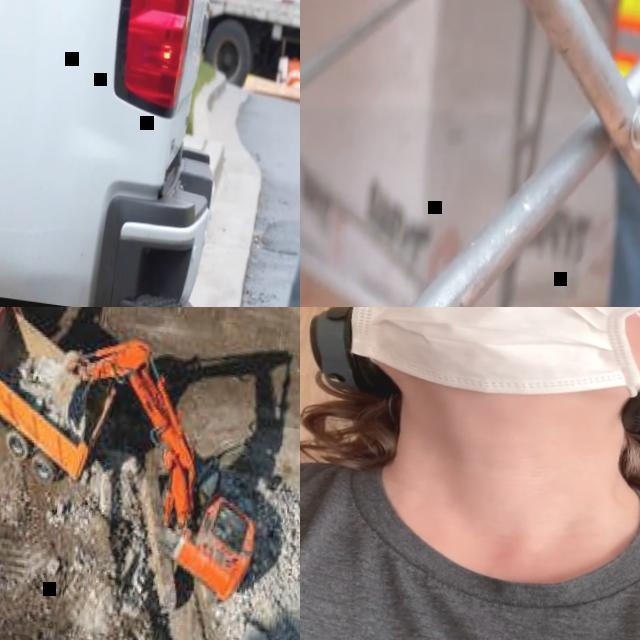Mask: (339, 307, 640, 417)
NO-Safety Vest: (300, 444, 640, 640)
Person: (300, 307, 640, 640), (541, 0, 640, 307)
Safety Cone: (284, 57, 300, 88)
machinery: (25, 323, 288, 636), (0, 307, 135, 497)
vehicle: (0, 0, 300, 307)
